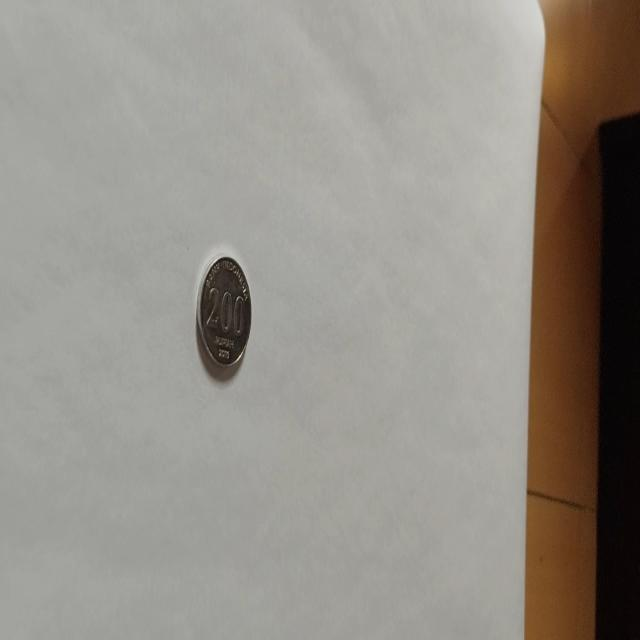dua ratus rupiah: (195, 253, 252, 370)
